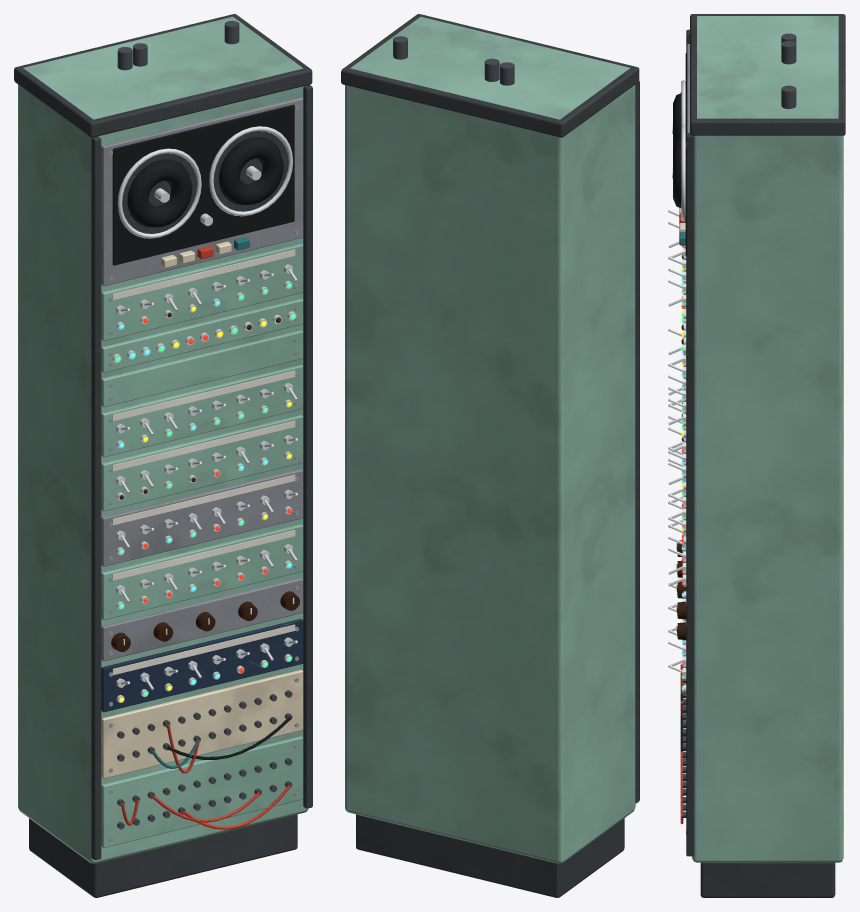
The model's file is Rack_60_5.glb.
3 renders of one model, left to right at view 1: azimuth 30°, elevation 25°; view 2: azimuth 150°, elevation 25°; view 3: azimuth 270°, elevation 25°, orthographic.
Parts seen in each view (by area): view 1: Rack_60_5_Body; view 2: Rack_60_5_Body; view 3: Rack_60_5_Body.
Part boxes in pixels (x1,y1,x2,y2): Rack_60_5_Body: [14, 14, 312, 897]; Rack_60_5_Body: [341, 14, 639, 897]; Rack_60_5_Body: [668, 14, 845, 897].
Size of the model in its own units: 0.61 by 2.1 by 0.4216.
19 materials, 8 textured.
